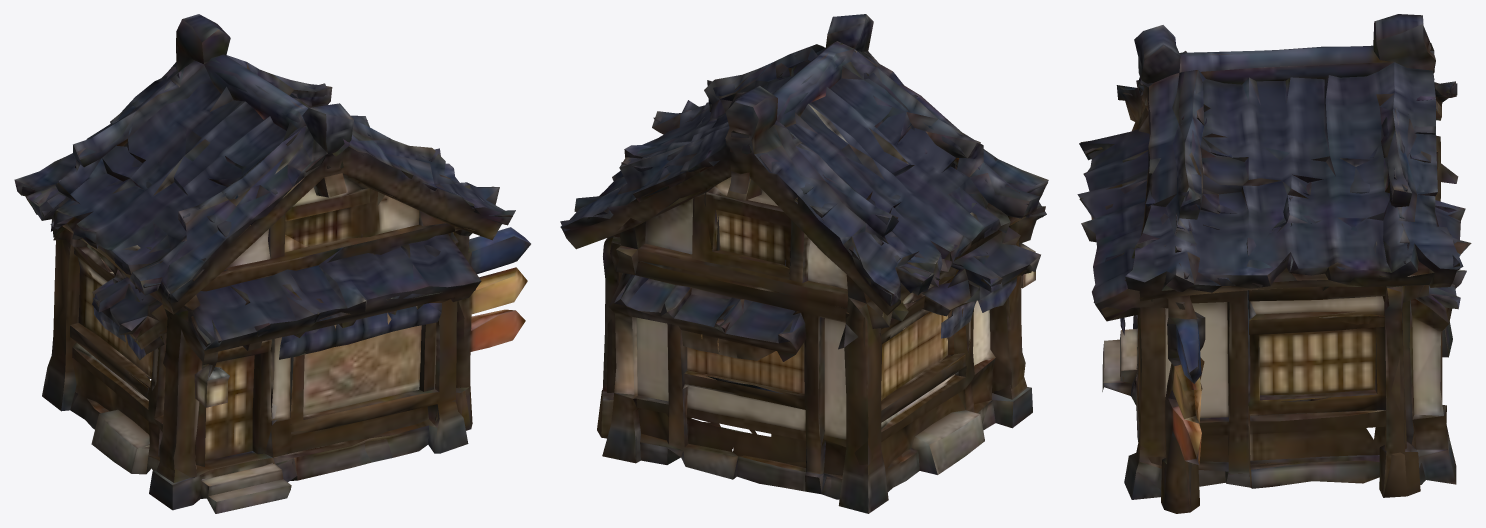
File: junction_hub.glb
3 renders of one model, left to right at view 1: azimuth 30°, elevation 25°; view 2: azimuth 150°, elevation 25°; view 3: azimuth 270°, elevation 25°, orthographic. The views are drawn at different scales.
Visible parts, largest first — view 1: compact__junction_hub__neural_lod; view 2: compact__junction_hub__neural_lod; view 3: compact__junction_hub__neural_lod.
Part boxes in pixels (<box>): compact__junction_hub__neural_lod: <box>14,14,530,513</box>; compact__junction_hub__neural_lod: <box>560,14,1048,513</box>; compact__junction_hub__neural_lod: <box>1077,14,1471,513</box>.
Size of the model in its own units: 0.9903 by 0.8426 by 0.7414.
1 material, 1 textured.
